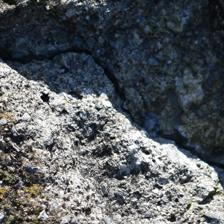Crack: (31, 104, 104, 224), (99, 58, 157, 125)
